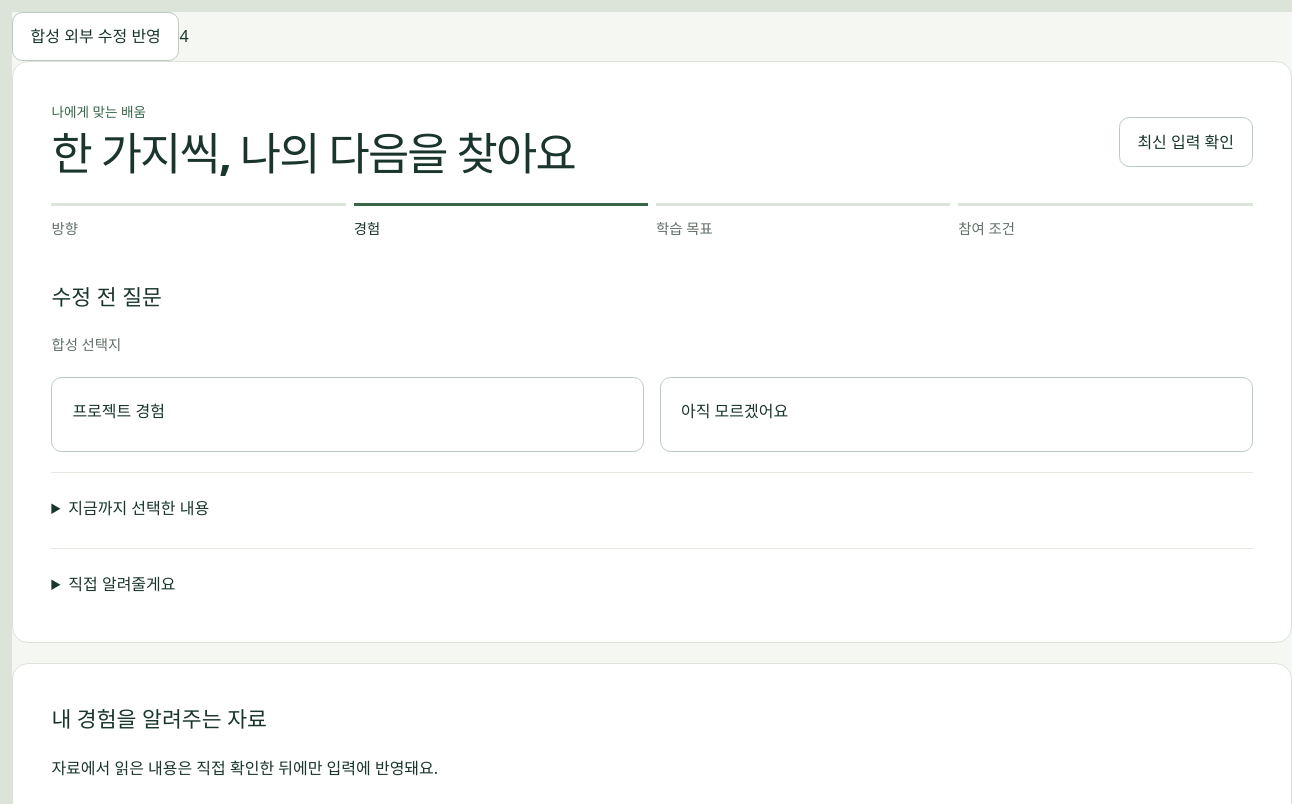
Test: 이전 답변 수정·입력 보존 › 수정 실패 전에는 이전 선택과 질문을 지우지 않고 같은 revision으로 재시도한다
Expected: the heading "수정 전 질문" is shown, [51, 282, 162, 311]
Click the heading "지금까지 선택한 내용": [139, 508] box [68, 497, 209, 519]
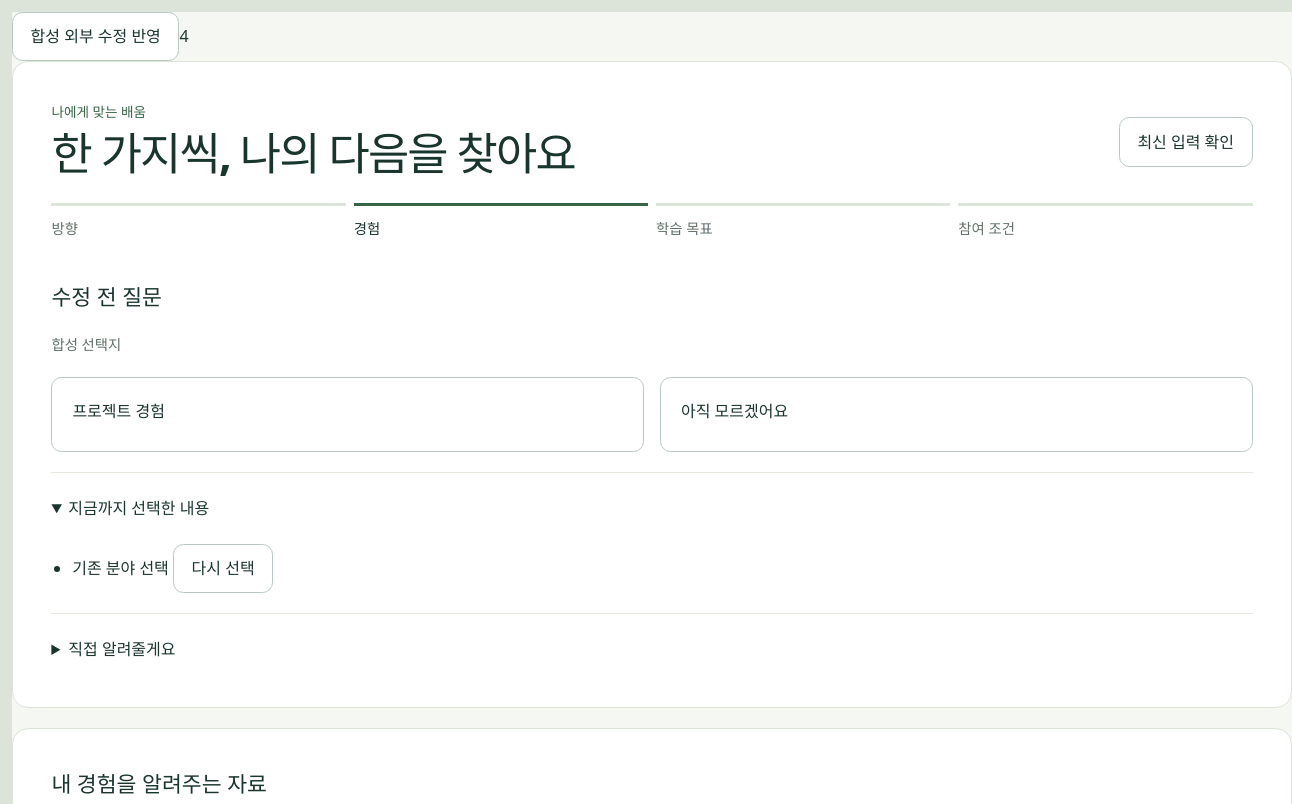
Click the button "다시 선택": [223, 568] box [173, 544, 273, 593]
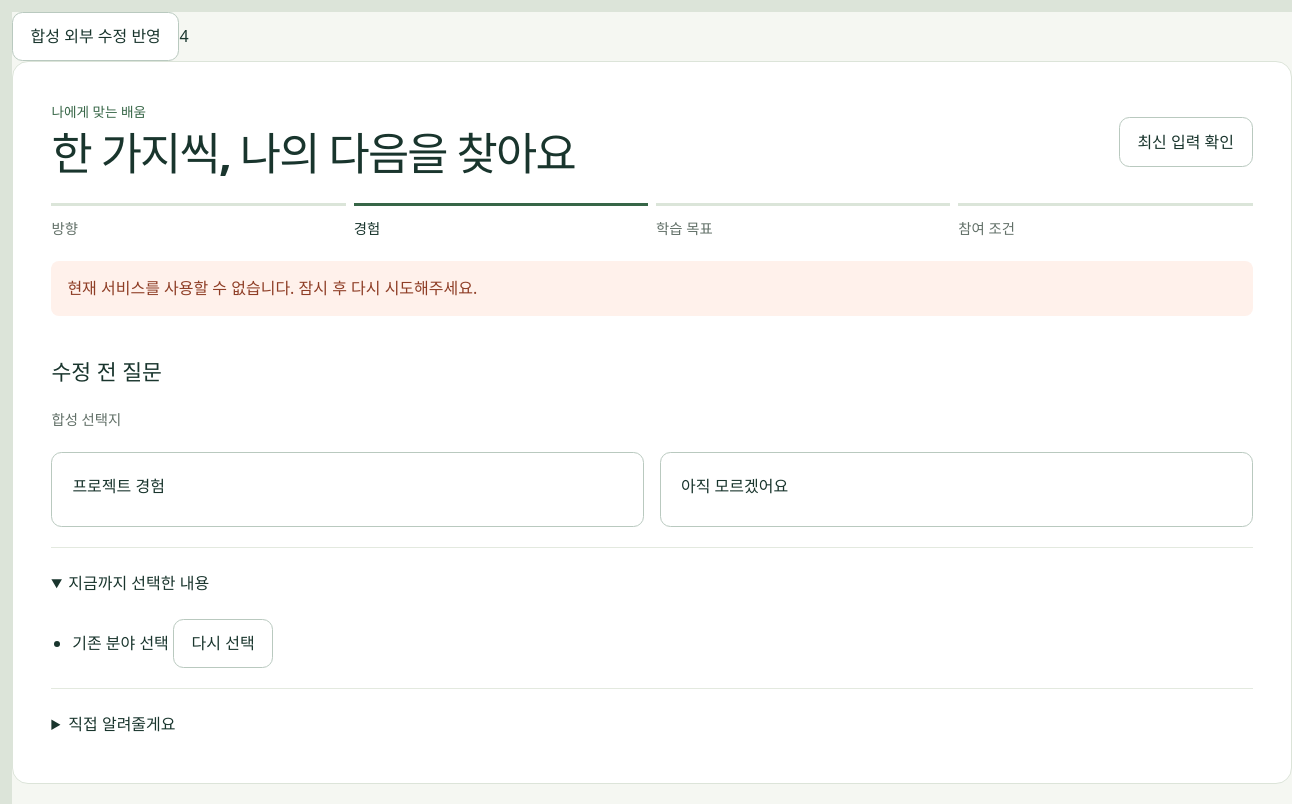
Expected: the heading "수정 전 질문" is shown, [51, 357, 162, 386]
Expected: the list item "기존 분야 선택" is shown, [72, 632, 169, 654]
Expected: the message "현재 서비스를 사용할 수 없습니다. 잠시 후 다시 시도해주세요." is shown, [51, 261, 1253, 316]
Click the button "다시 선택": [223, 644] box [173, 619, 273, 668]
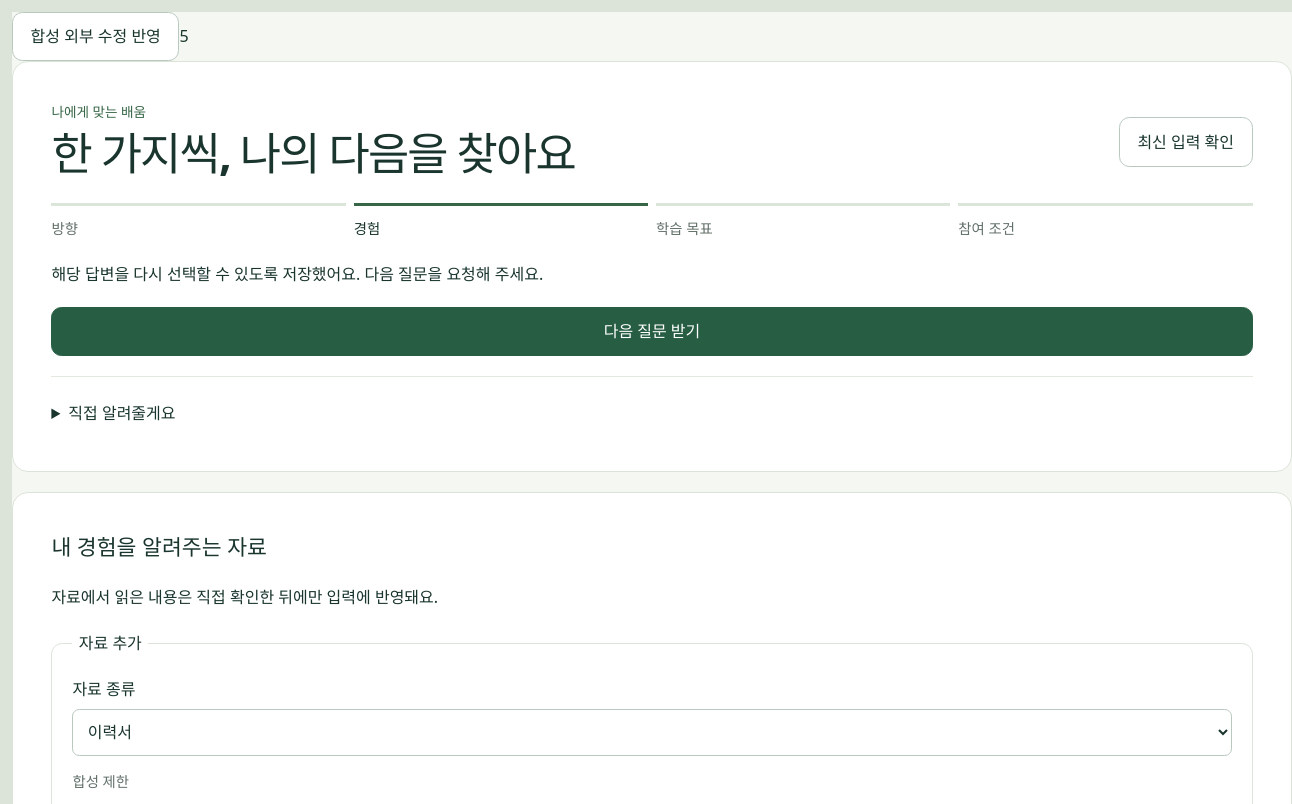
Expected: the text "해당 답변을 다시 선택할 수 있도록 저장했어요. 다음 질문을 요청해 주세요." is shown, [51, 263, 543, 285]
